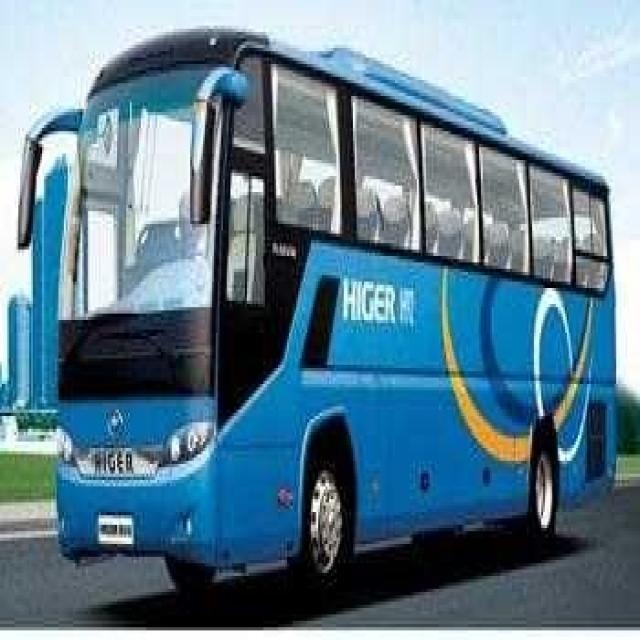Bus: (20, 16, 624, 615)
